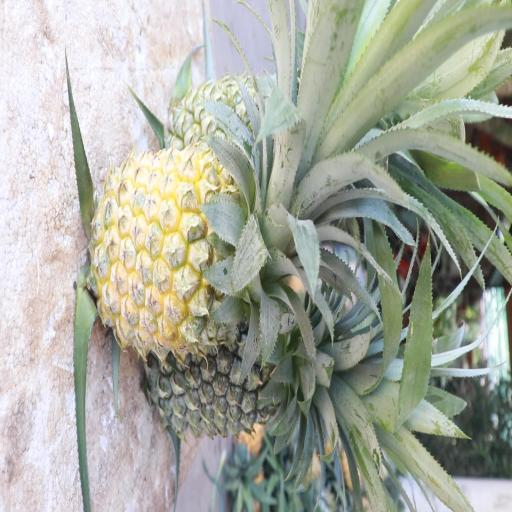Pineapple - v8 v1: (90, 154, 309, 352)
